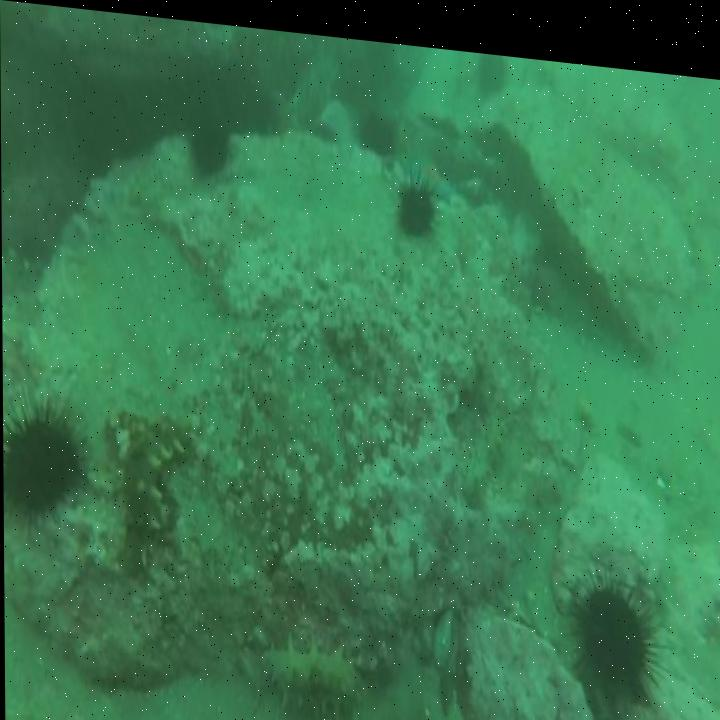echinus: (569, 539, 657, 706), (2, 382, 87, 533), (188, 82, 232, 182), (392, 157, 438, 235), (352, 99, 401, 154), (475, 42, 509, 96)
holothurian: (119, 399, 201, 554), (262, 625, 366, 709), (455, 379, 511, 500)
